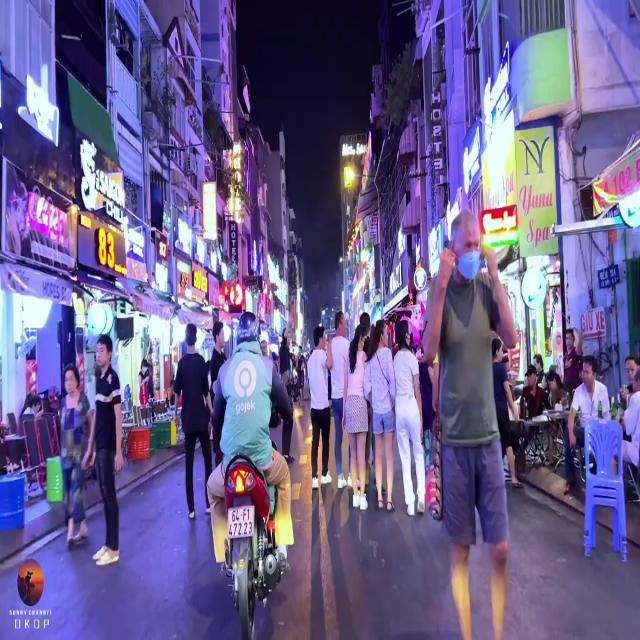bien_trang: (227, 504, 254, 536)
